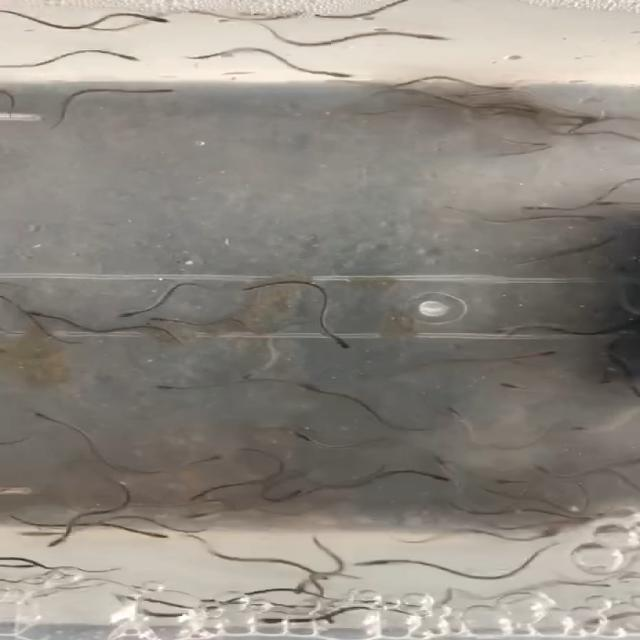active_glass_eel: (315, 330, 367, 354), (284, 373, 329, 398), (407, 27, 462, 46), (128, 527, 176, 548), (521, 346, 567, 366), (143, 380, 194, 398), (284, 426, 324, 448), (420, 451, 468, 469), (312, 66, 358, 83), (558, 112, 610, 127), (486, 376, 525, 396), (514, 462, 562, 478), (106, 49, 146, 68), (138, 310, 176, 330), (138, 84, 185, 100), (191, 450, 236, 466), (279, 580, 316, 599), (174, 510, 220, 525), (345, 558, 393, 572), (227, 368, 266, 385), (20, 407, 59, 424), (254, 612, 295, 628), (438, 404, 474, 422), (582, 578, 623, 593), (10, 307, 50, 322), (137, 12, 174, 28), (562, 419, 593, 438), (102, 307, 144, 321), (419, 473, 467, 485), (36, 536, 70, 552), (472, 82, 516, 94), (10, 561, 46, 575), (489, 474, 522, 489), (579, 540, 610, 555), (282, 485, 310, 501), (577, 213, 611, 226), (535, 529, 564, 544), (594, 193, 618, 210), (520, 203, 550, 213)
